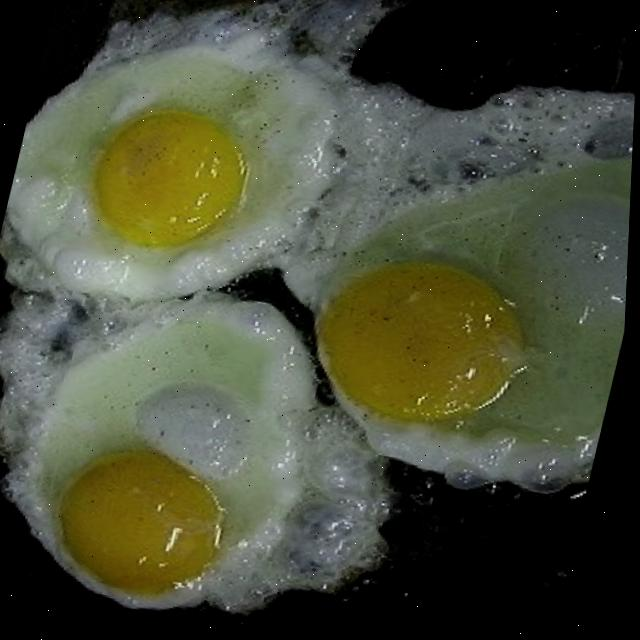鸡蛋料理: (0, 270, 361, 617)
